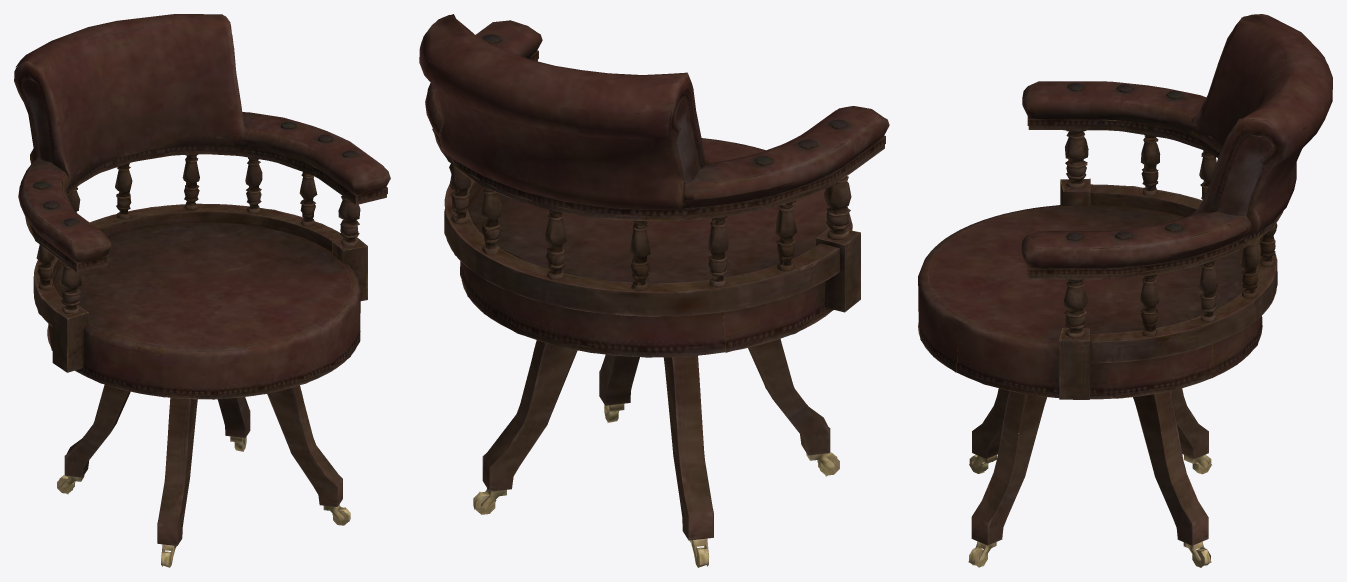
The model's file is chair-16.glb.
The picture shows the model from 3 angles, left to right: view 1: azimuth 30°, elevation 25°; view 2: azimuth 150°, elevation 25°; view 3: azimuth 270°, elevation 25°; orthographic projection. The views are drawn at different scales.
Parts seen in each view (by area): view 1: Victorian Chair Red; view 2: Victorian Chair Red; view 3: Victorian Chair Red.
Part boxes in pixels (<box>): Victorian Chair Red: <box>14,14,390,567</box>; Victorian Chair Red: <box>419,14,889,567</box>; Victorian Chair Red: <box>918,14,1332,567</box>.
Size of the model in its own units: 5.53 by 6.8 by 5.64.
1 material, 1 textured.
